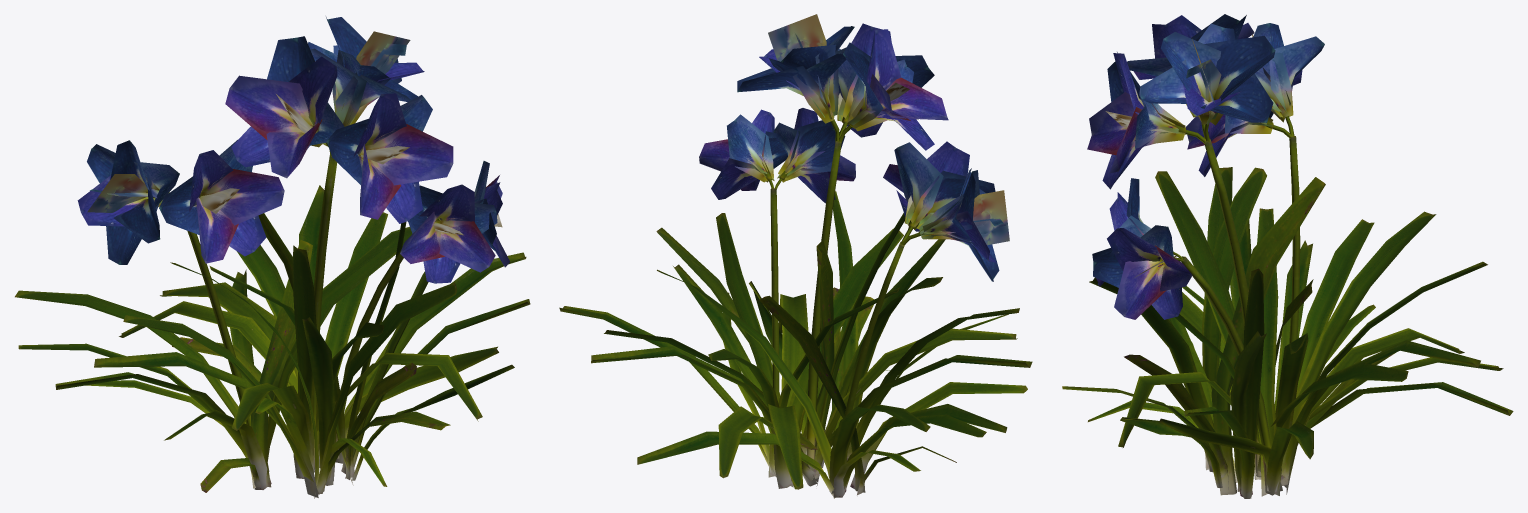
The model's file is Amaryllis_bush_normal_lightblue.glb.
3 views of the same model, side by side, from view 1: azimuth 30°, elevation 25°; view 2: azimuth 150°, elevation 25°; view 3: azimuth 270°, elevation 25° (orthographic). The views are drawn at different scales.
Parts seen in each view (by area): view 1: bush; view 2: bush; view 3: bush.
Part boxes in pixels (x1,y1,x2,y2): bush: [15, 17, 530, 498]; bush: [559, 14, 1032, 498]; bush: [1062, 14, 1513, 498].
Size of the model in its own units: 2.94 by 2.74 by 2.41.
Materials: 1 (1 with a texture image).
